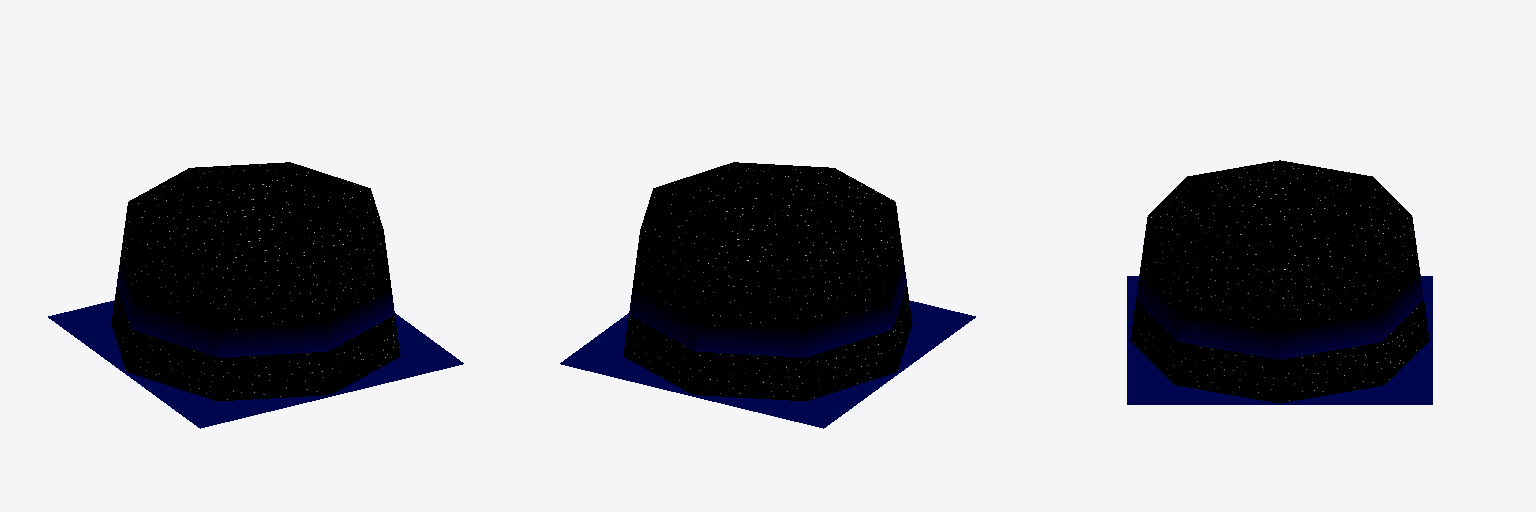
3 views of the same model, side by side, from view 1: azimuth 30°, elevation 25°; view 2: azimuth 150°, elevation 25°; view 3: azimuth 270°, elevation 25° (orthographic).
Visible parts, largest first — view 1: polygon0; view 2: polygon0; view 3: polygon0.
Boxes of the visible parts, x1,y1,x2,y2 form: polygon0: [48, 162, 463, 428]; polygon0: [560, 162, 975, 428]; polygon0: [1127, 160, 1432, 404].
Size of the model in its own units: 969 by 590 by 969.
1 materials, 1 textured.